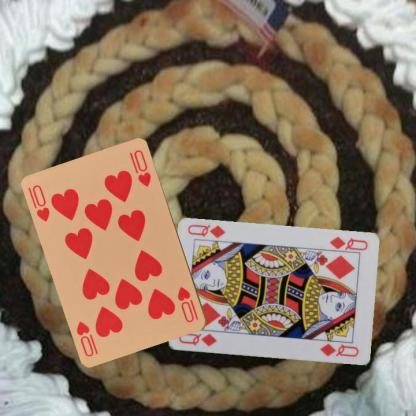10h: (26, 182, 51, 223), (175, 284, 200, 324)
Qd: (324, 233, 368, 256), (176, 330, 218, 348)
